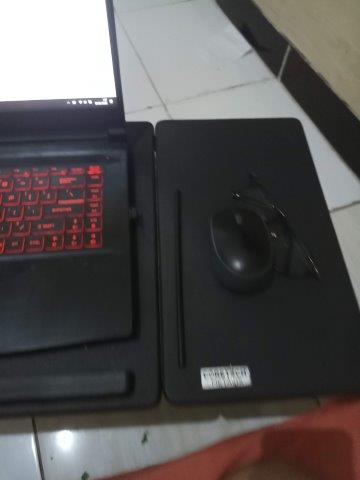sedotan: (174, 190, 185, 368)
